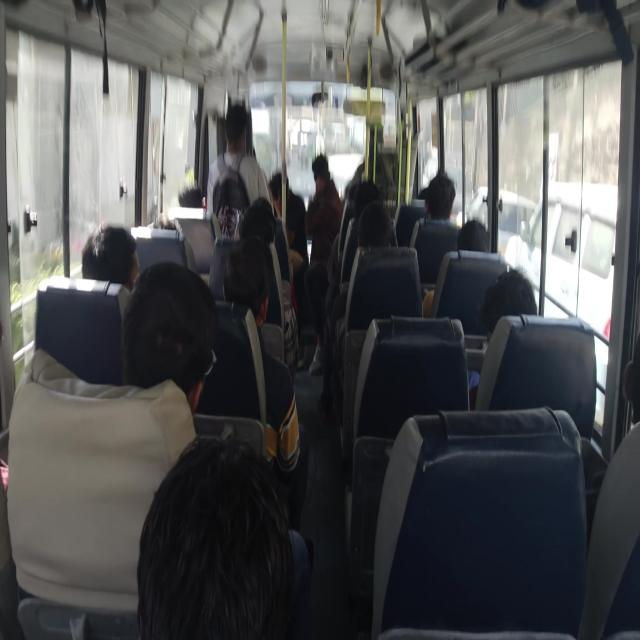person: (154, 450, 272, 640), (130, 279, 224, 376), (488, 282, 538, 352), (88, 223, 136, 285), (227, 247, 266, 320), (360, 215, 402, 268), (261, 148, 300, 204), (314, 153, 350, 208), (147, 199, 192, 242), (613, 339, 640, 410), (452, 215, 487, 268), (224, 105, 256, 161), (231, 219, 288, 250), (434, 173, 466, 224), (183, 172, 214, 213), (242, 194, 280, 224), (350, 186, 386, 217), (412, 182, 430, 210)
